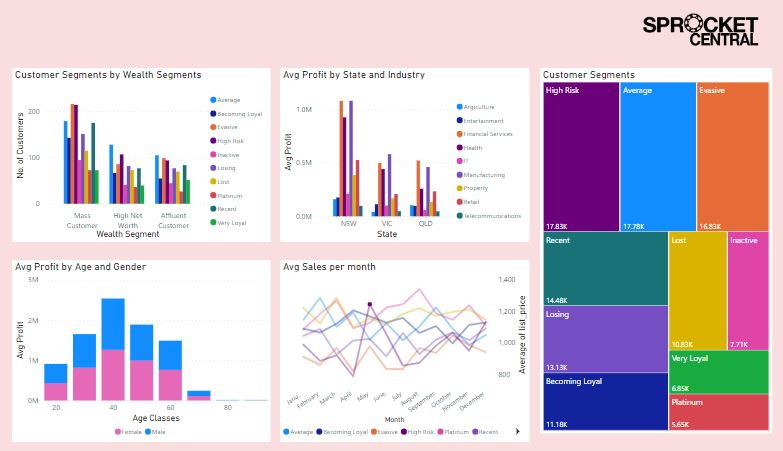

This screenshot's page, from the dashboard's own definition file:
{"tool":"powerbi","page":{"name":"Customer Segments","canvas":[1280,720],"ordinal":0},"visuals":[{"type":"image","box":[1033.2,0,233.3,78.3],"z":0},{"type":"clusteredColumnChart","title":"Customer Segments by Wealth Segments","fields":{"Series":["Dataset.customer_segment"],"Category":["Dataset.wealth_segment"],"Y":["CountNonNull(Dataset.m_score)"]},"box":[0,96.7,431.4,290.1],"z":1000},{"type":"clusteredColumnChart","title":"Avg Profit by State and Industry","fields":{"Category":["Dataset.state"],"Y":["Sum(Dataset.monetary_value)"],"Series":["Dataset.job_industry_category"]},"box":[446.7,96.7,416,290.1],"z":2000},{"type":"columnChart","title":"Avg Profit by Age and Gender","fields":{"Category":["Dataset.age_class"],"Y":["Sum(Dataset.monetary_value)"],"Series":["Dataset.gender"]},"box":[0,416,431.4,304],"z":3000},{"type":"treemap","title":"Customer Segments","fields":{"Group":["Dataset.customer_segment"],"Values":["Sum(Dataset.age)"]},"box":[879.2,97.2,387.5,608.7],"z":4000},{"type":"lineChart","title":"Avg Sales per month","fields":{"Category":["Transactions.transaction_date.Variation.Date Hierarchy.Month"],"Series":["Top 1000.customer_segment"],"Y2":["Avg(Transactions.list_price)"]},"box":[446.7,416,416,304],"z":5000},{"type":"qnaVisual","box":[250.8,0,197.3,150],"z":5001}]}

Visuals, with their boxes in screenshot pixels (x1, y1, x2, y2), scaled from the page's 1280x720 canvas onto the 783x451 screenshot:
image: [x1=632, y1=0, x2=775, y2=49]
"Customer Segments by Wealth Segments" clusteredColumnChart: [x1=0, y1=61, x2=264, y2=242]
"Avg Profit by State and Industry" clusteredColumnChart: [x1=273, y1=61, x2=528, y2=242]
"Avg Profit by Age and Gender" columnChart: [x1=0, y1=261, x2=264, y2=450]
"Customer Segments" treemap: [x1=538, y1=61, x2=775, y2=442]
"Avg Sales per month" lineChart: [x1=273, y1=261, x2=528, y2=450]
qnaVisual: [x1=153, y1=0, x2=274, y2=94]
